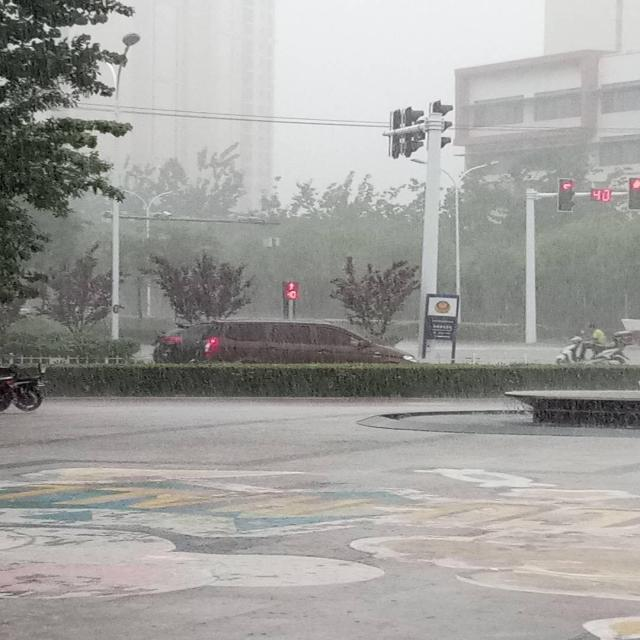car: (197, 320, 417, 362), (154, 320, 198, 364)
